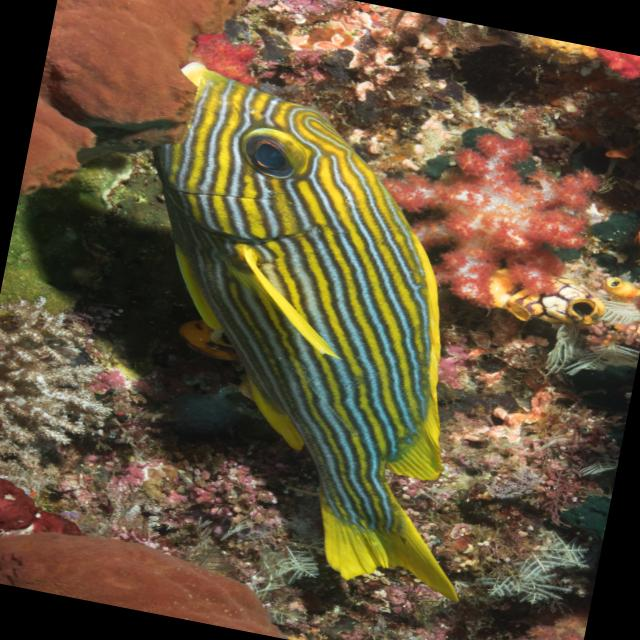RibbonedSweetlips: (79, 56, 552, 604)
